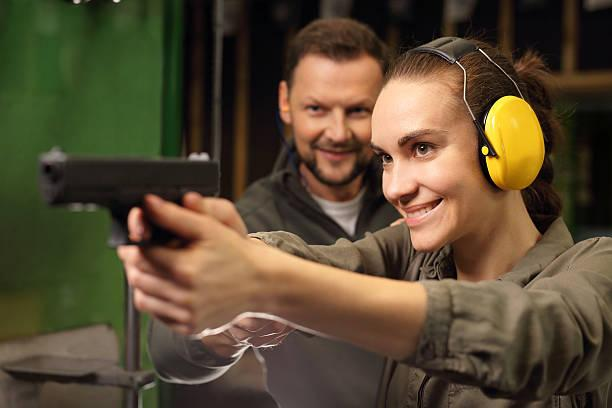weapon: (34, 142, 228, 251)
